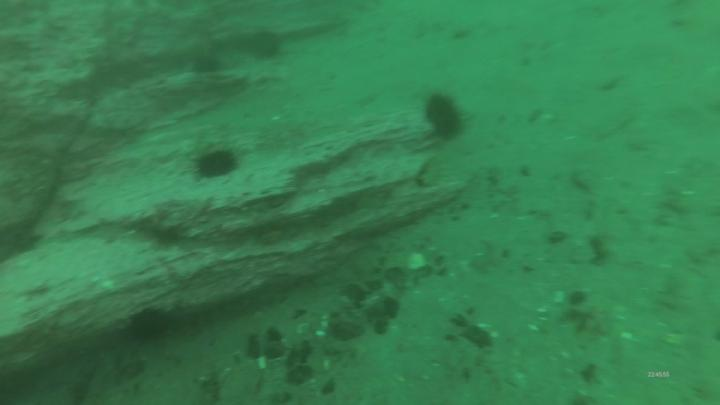echinus: (422, 91, 469, 145), (126, 306, 176, 344), (193, 147, 241, 182), (244, 27, 284, 60), (191, 52, 222, 79)
holothurian: (417, 153, 447, 192)
